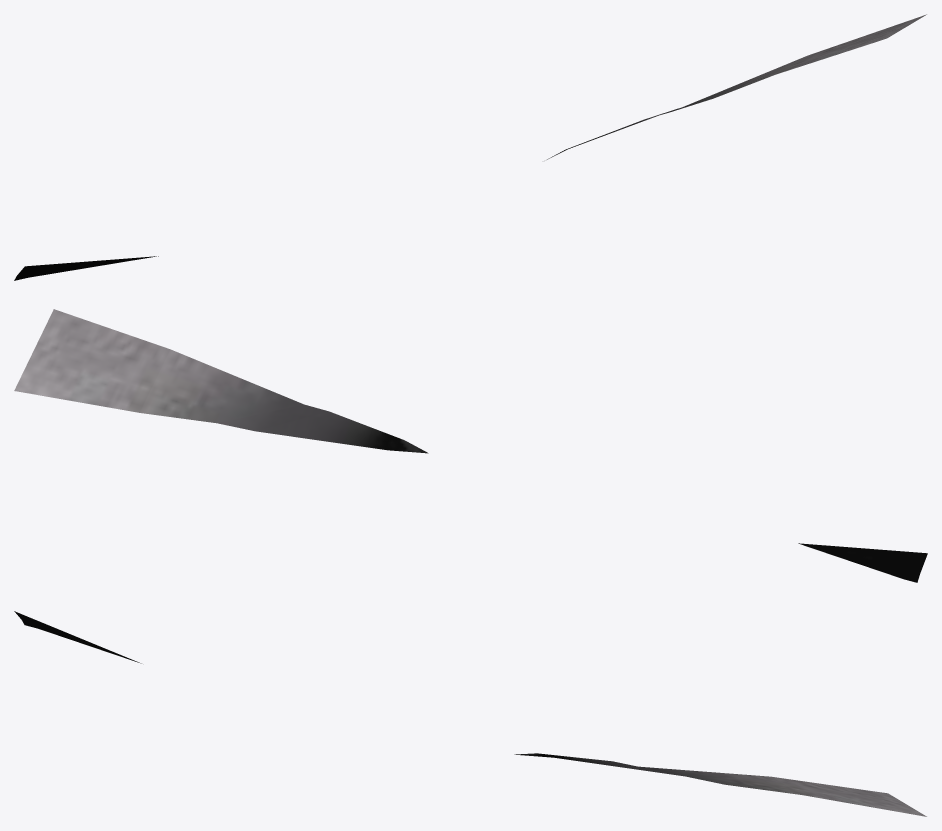
The picture shows the model from 3 angles, top to bottom: view 1: azimuth 30°, elevation 25°; view 2: azimuth 150°, elevation 25°; view 3: azimuth 330°, elevation 25°; orthographic projection. The views are drawn at different scales.
Bounding box in the file's own units: 2.95 × 0.1703 × 0.233.
Materials: 1 (1 with a texture image).
